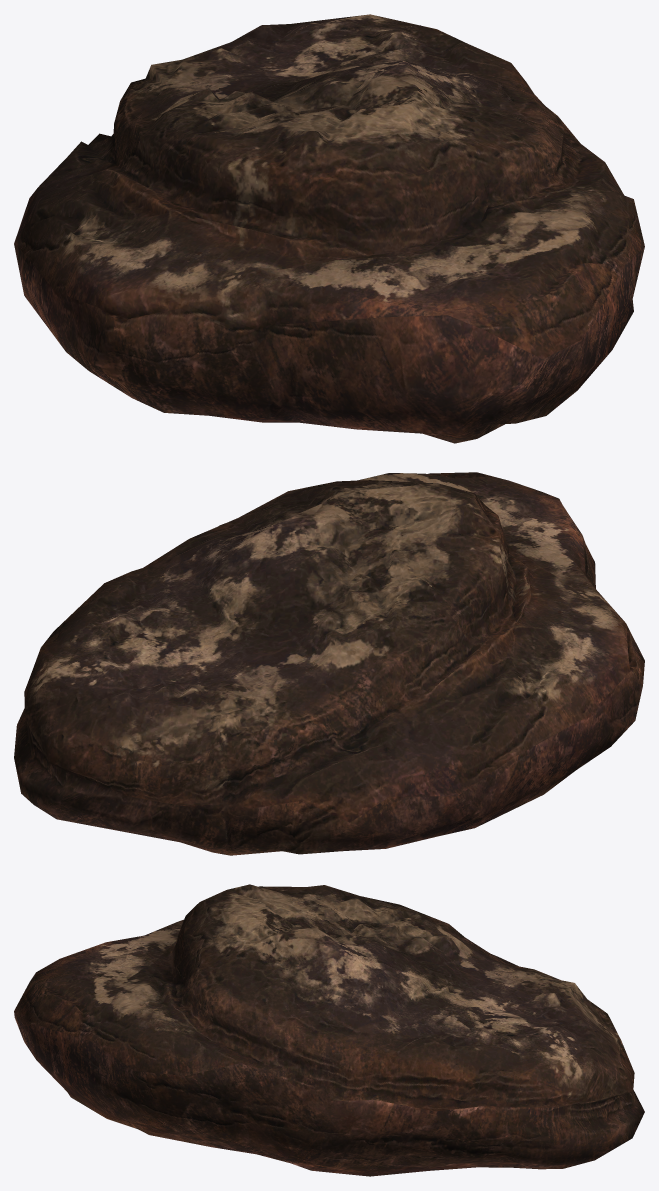
The model's file is rock_red_small07.dae.
3 views of the same model, one above another, from view 1: azimuth 30°, elevation 25°; view 2: azimuth 150°, elevation 25°; view 3: azimuth 270°, elevation 25° (orthographic). The views are drawn at different scales.
Parts seen in each view (by area): view 1: Mesh; view 2: Mesh; view 3: Mesh.
Part boxes in pixels (left/top/right/bottom): Mesh: left=14, top=14, right=644, bottom=443; Mesh: left=14, top=472, right=644, bottom=855; Mesh: left=14, top=884, right=644, bottom=1176.
Size of the model in its own units: 0.7048 by 0.3352 by 0.9288.
